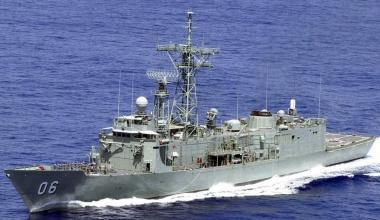warship: (3, 30, 374, 212)
